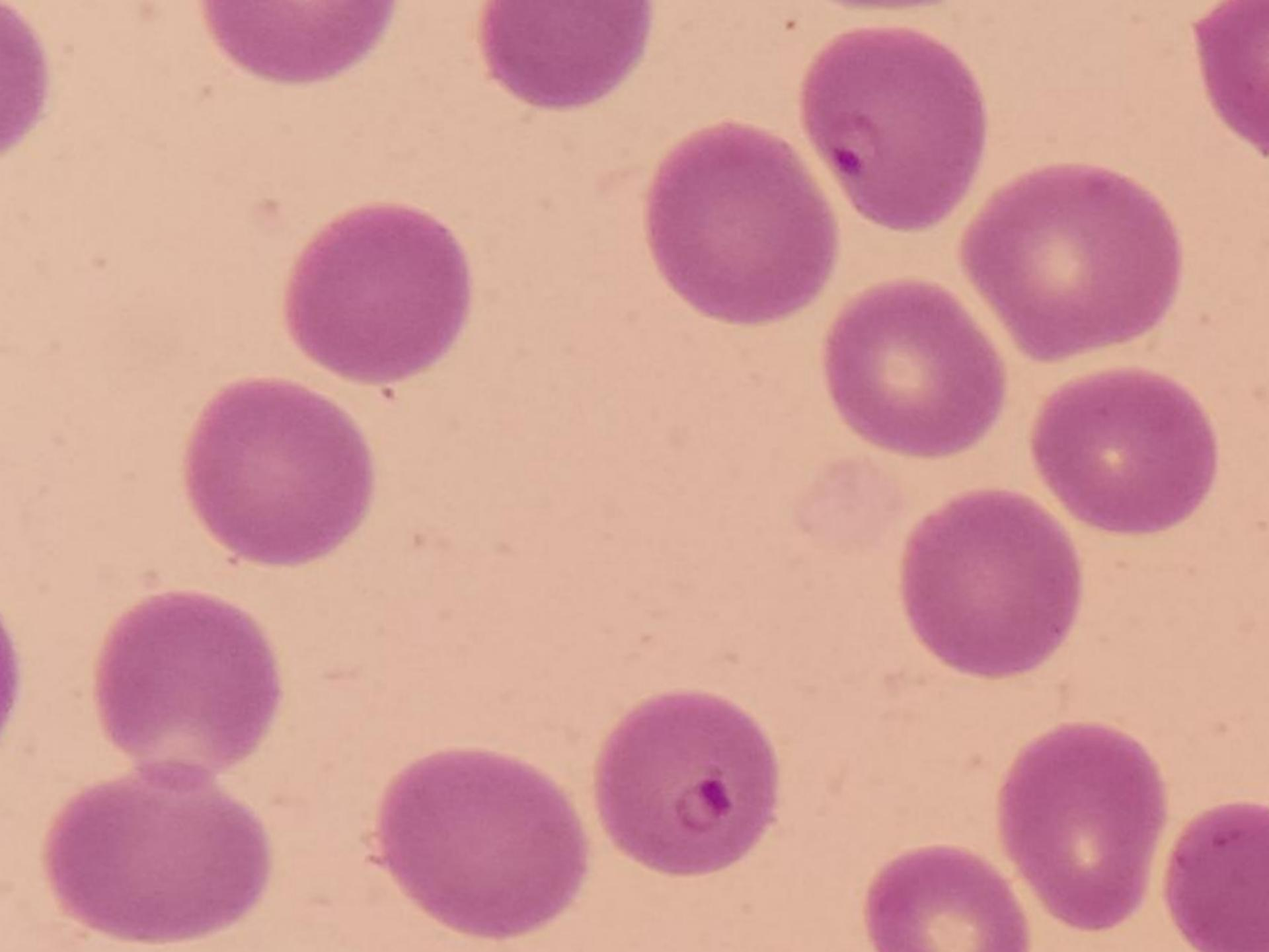Infected: (800, 25, 984, 229), (596, 689, 777, 875)
Uninfected: (964, 163, 1176, 364), (43, 762, 269, 936), (383, 749, 582, 940), (648, 124, 831, 322), (97, 595, 280, 791), (905, 489, 1083, 677), (187, 382, 368, 565), (284, 205, 469, 382), (1008, 720, 1162, 930), (825, 284, 1008, 455), (1034, 370, 1218, 529), (479, 0, 654, 110), (867, 846, 1030, 952), (1165, 805, 1269, 952)
